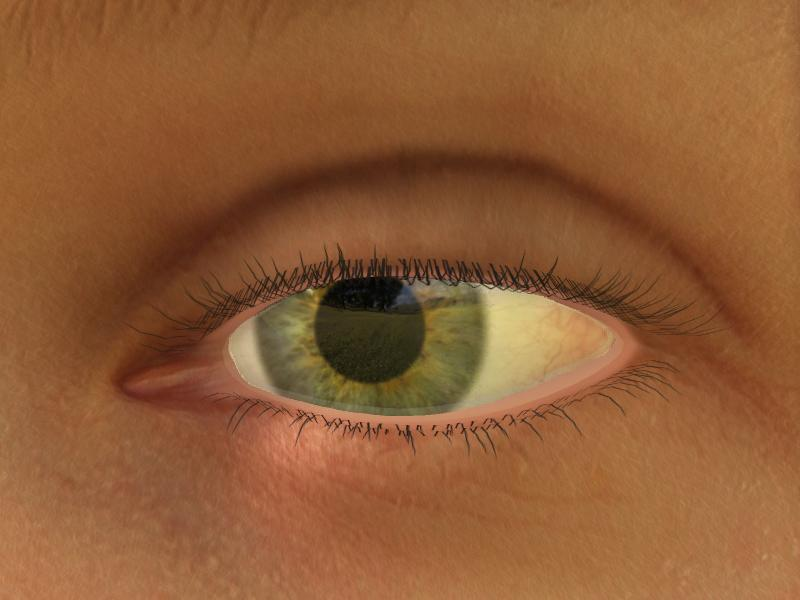eye: (255, 282, 488, 417)
